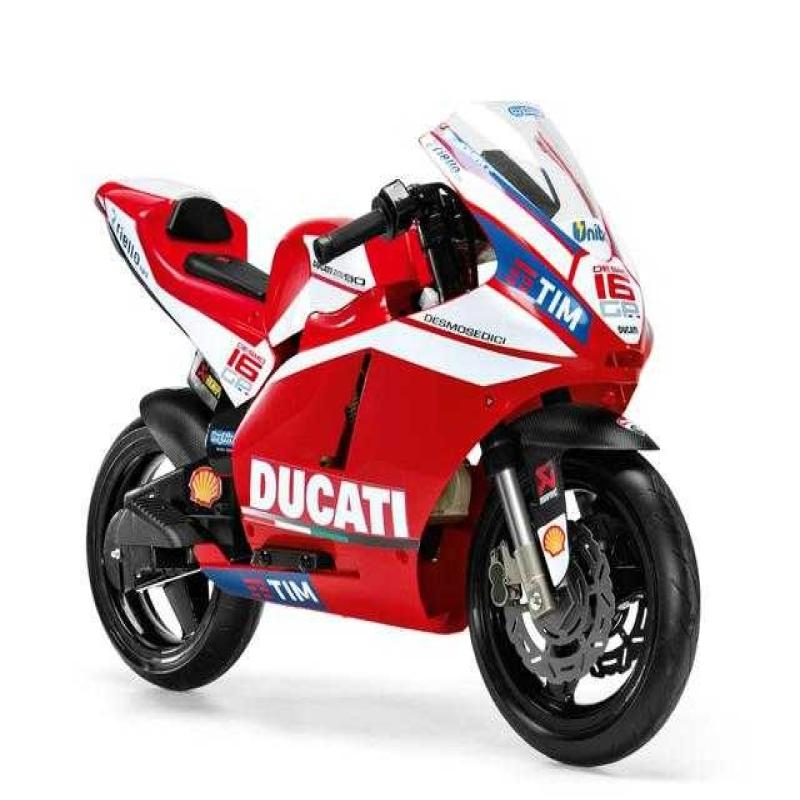bike: (60, 91, 796, 731)
